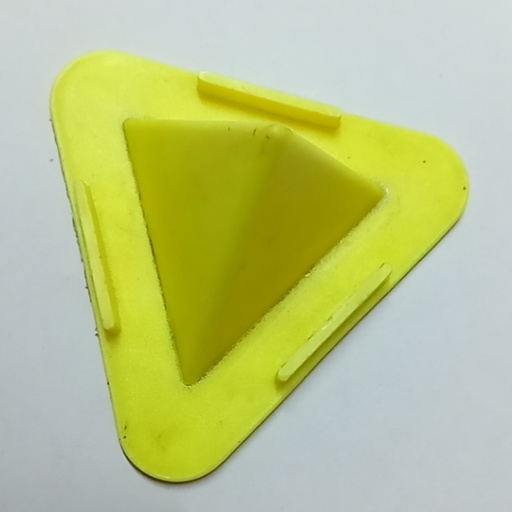yellow_cone: (7, 0, 487, 490)
